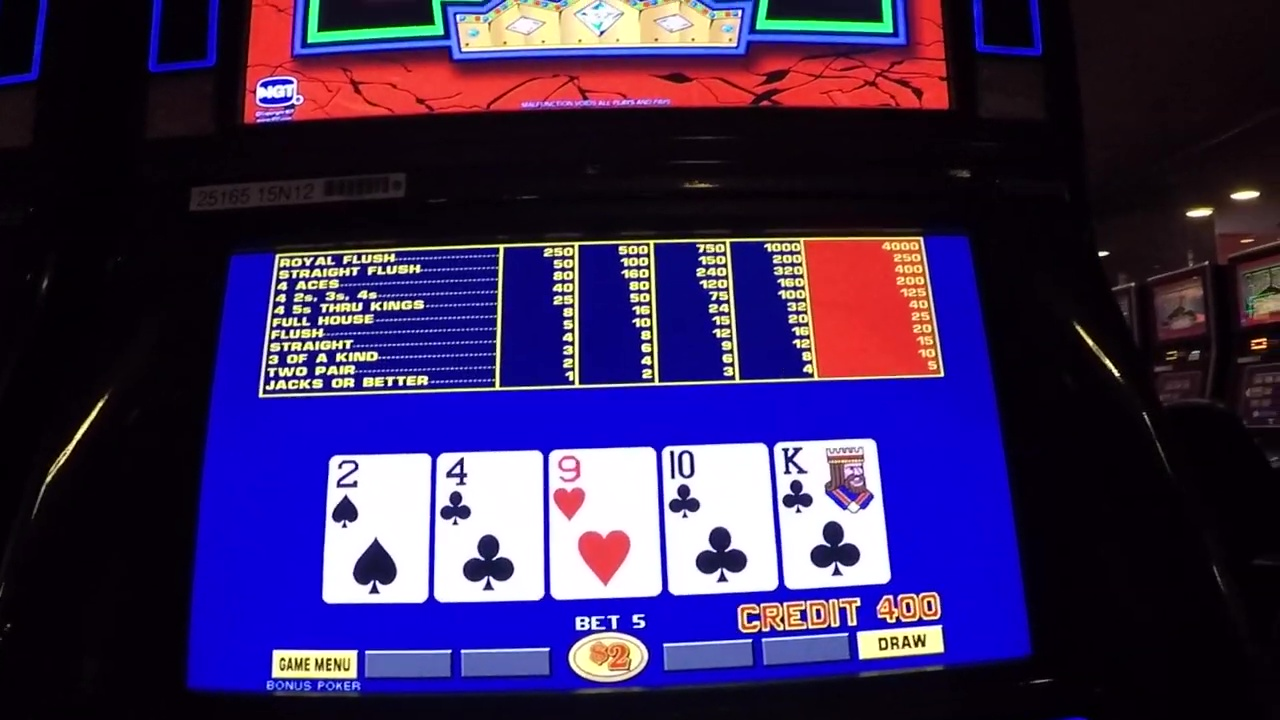C4: (438, 454, 540, 530)
CK: (776, 443, 878, 520)
CT: (667, 447, 769, 524)
H9: (551, 450, 656, 529)
S2: (324, 452, 426, 533)
